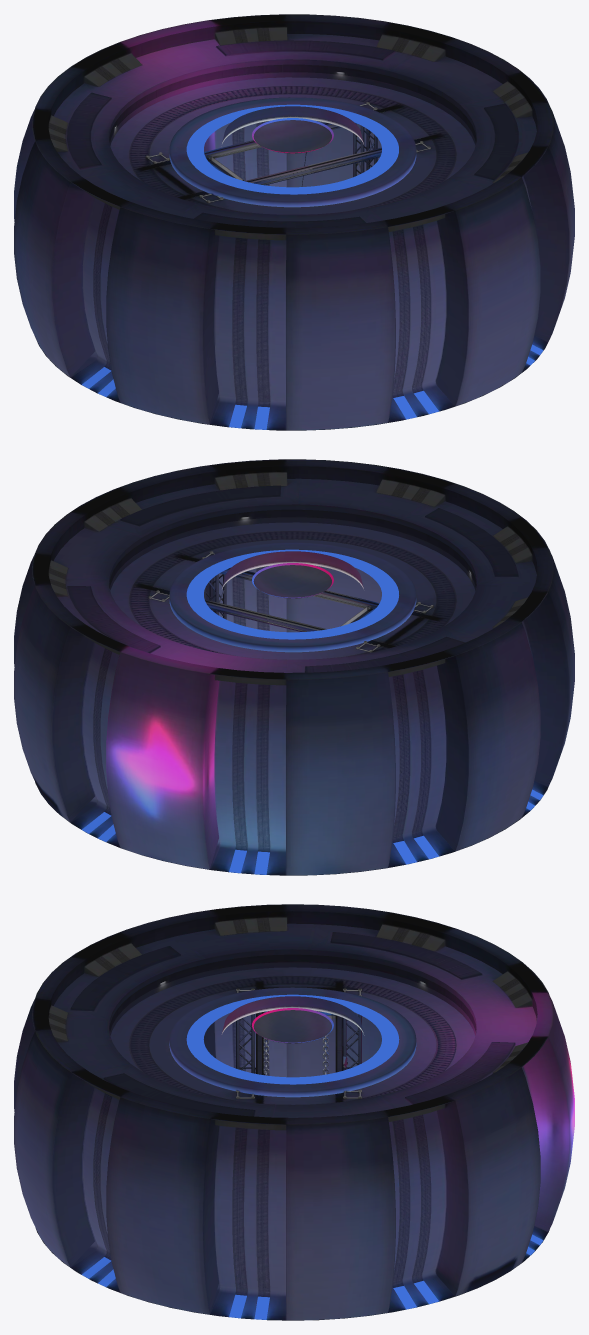
The model's file is lab7.glb.
The picture shows the model from 3 angles, top to bottom: view 1: azimuth 30°, elevation 25°; view 2: azimuth 150°, elevation 25°; view 3: azimuth 270°, elevation 25°; orthographic projection.
Visible parts, largest first — view 1: jars; view 2: jars; view 3: jars.
Part boxes in pixels (x1,y1,x2,y2): jars: [14, 14, 574, 430]; jars: [14, 459, 574, 875]; jars: [14, 904, 574, 1320].
Size of the model in its own units: 19.97 by 7.66 by 19.86.
4 materials, 4 textured.
